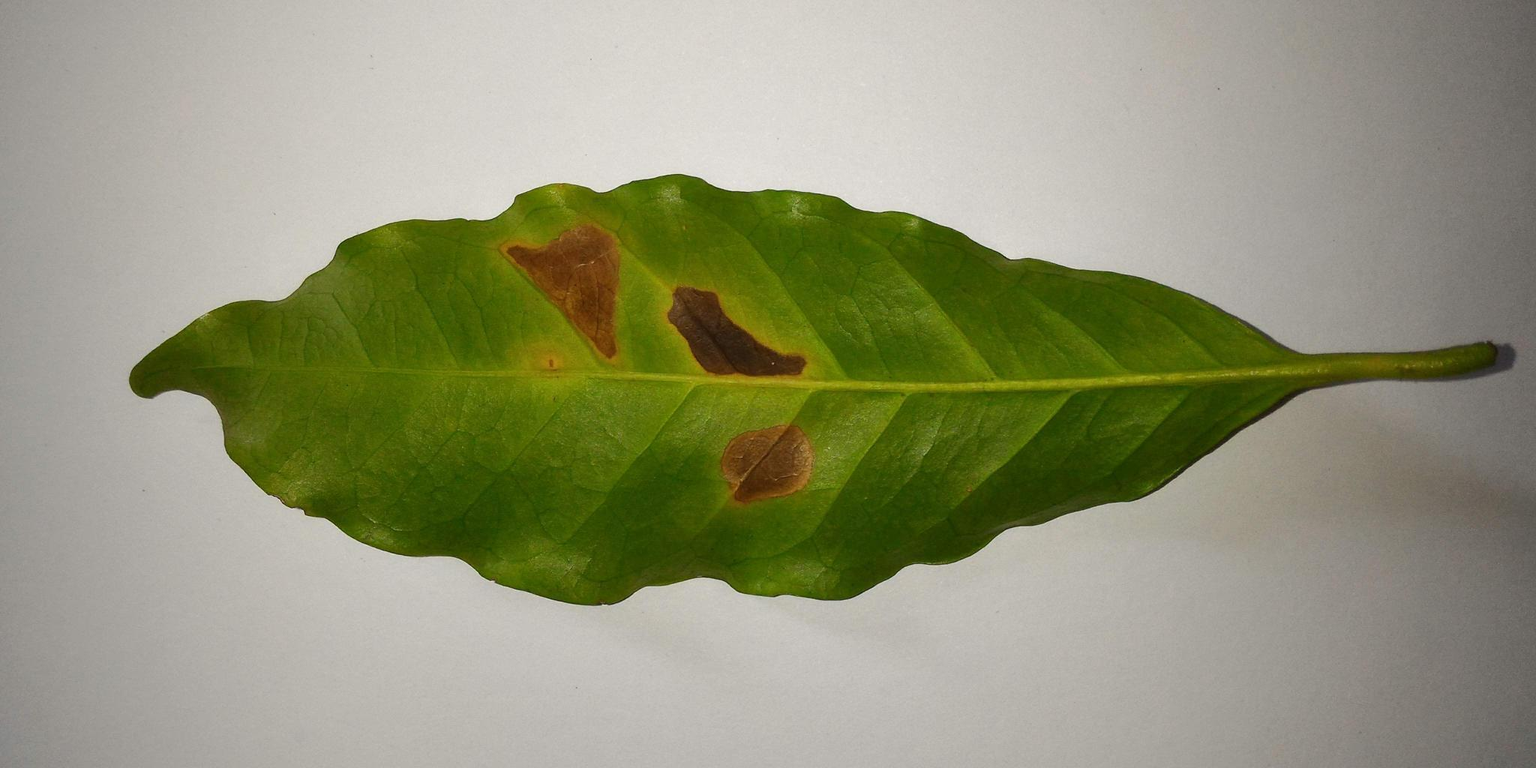Miner: (493, 214, 634, 365), (663, 279, 811, 387), (712, 414, 823, 509)
